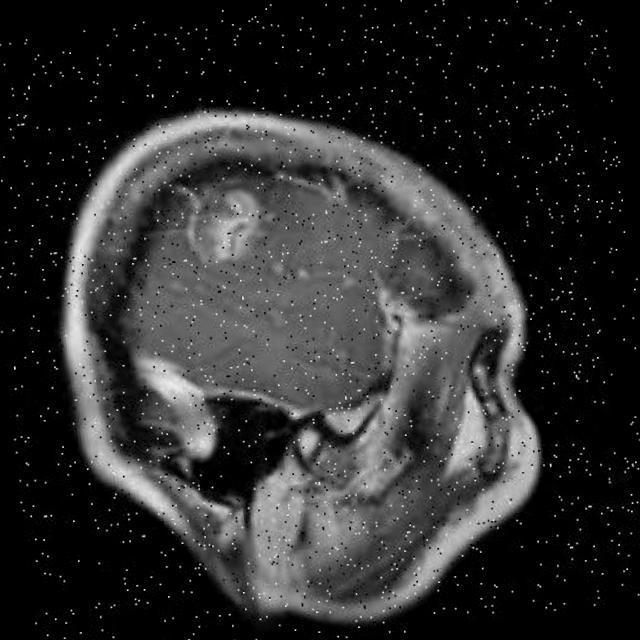LMCI: (171, 178, 259, 284)
